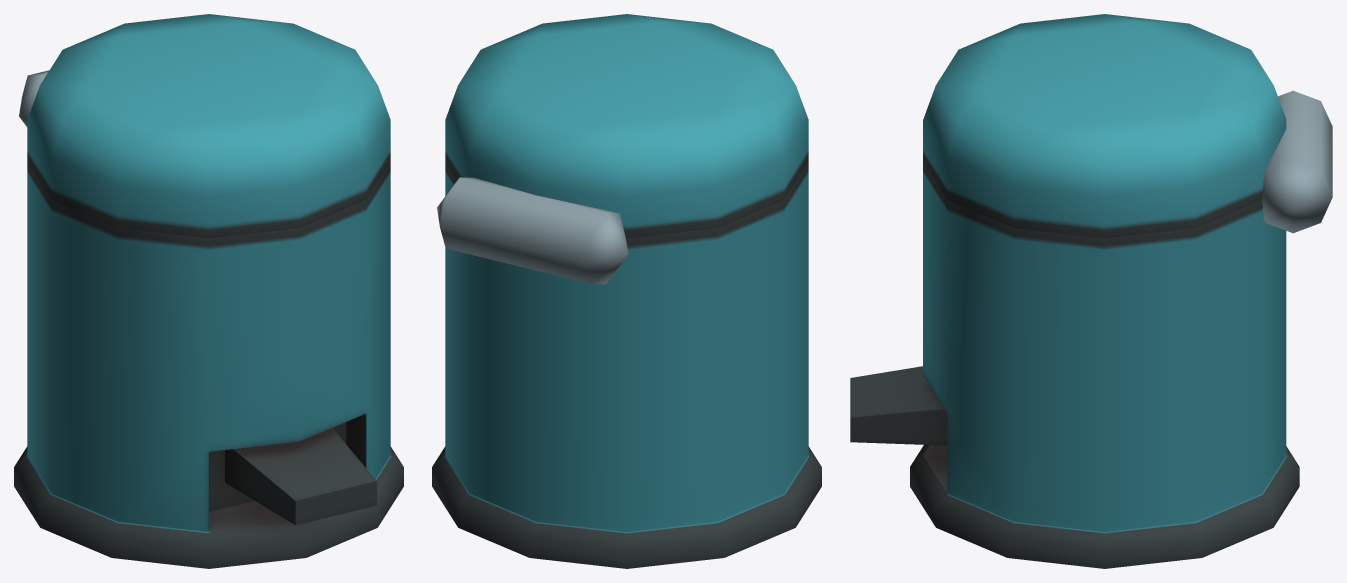
The model's file is bin_01.fbx.
3 renders of one model, left to right at view 1: azimuth 30°, elevation 25°; view 2: azimuth 150°, elevation 25°; view 3: azimuth 270°, elevation 25°, orthographic.
Visible parts, largest first — view 1: bin_01_ready; view 2: bin_01_ready; view 3: bin_01_ready.
Part boxes in pixels (<box>): bin_01_ready: <box>14,14,403,568</box>; bin_01_ready: <box>432,14,821,568</box>; bin_01_ready: <box>850,14,1332,568</box>.
Size of the model in its own units: 43.56 by 50.88 by 53.88.
